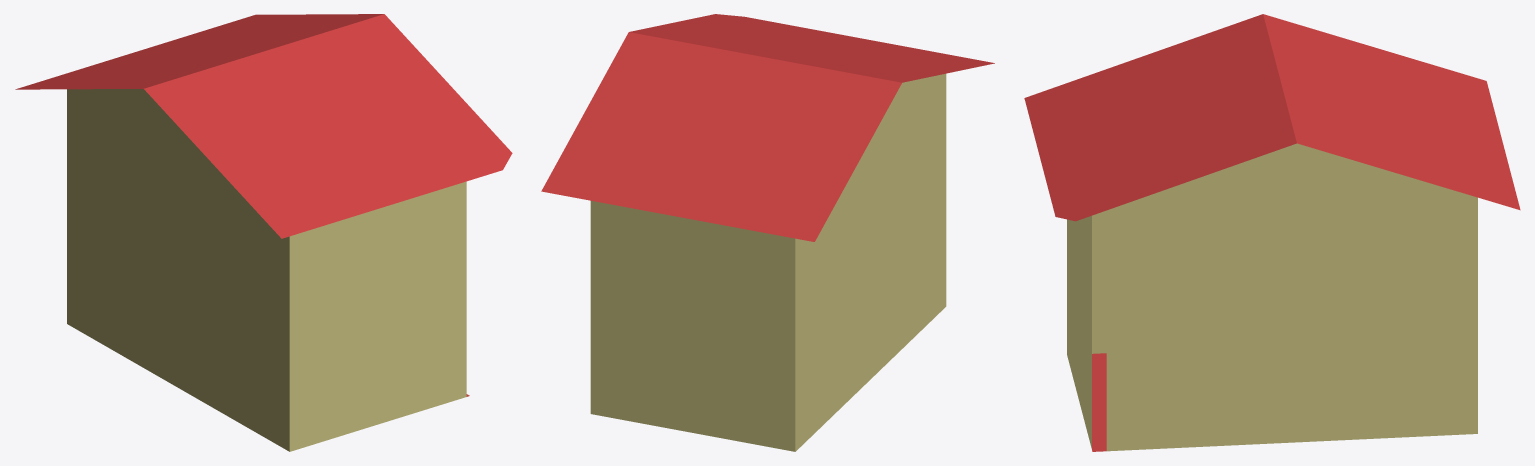
3 views of the same model, side by side, from view 1: azimuth 30°, elevation 25°; view 2: azimuth 150°, elevation 25°; view 3: azimuth 270°, elevation 25° (orthographic). The views are drawn at different scales.
Bounding box in the file's own units: 6.9 × 9.62 × 6.75.
